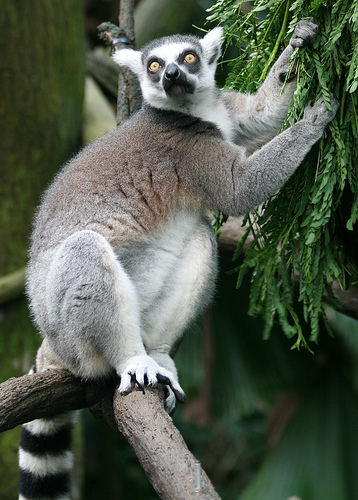cat: (17, 25, 337, 498)
